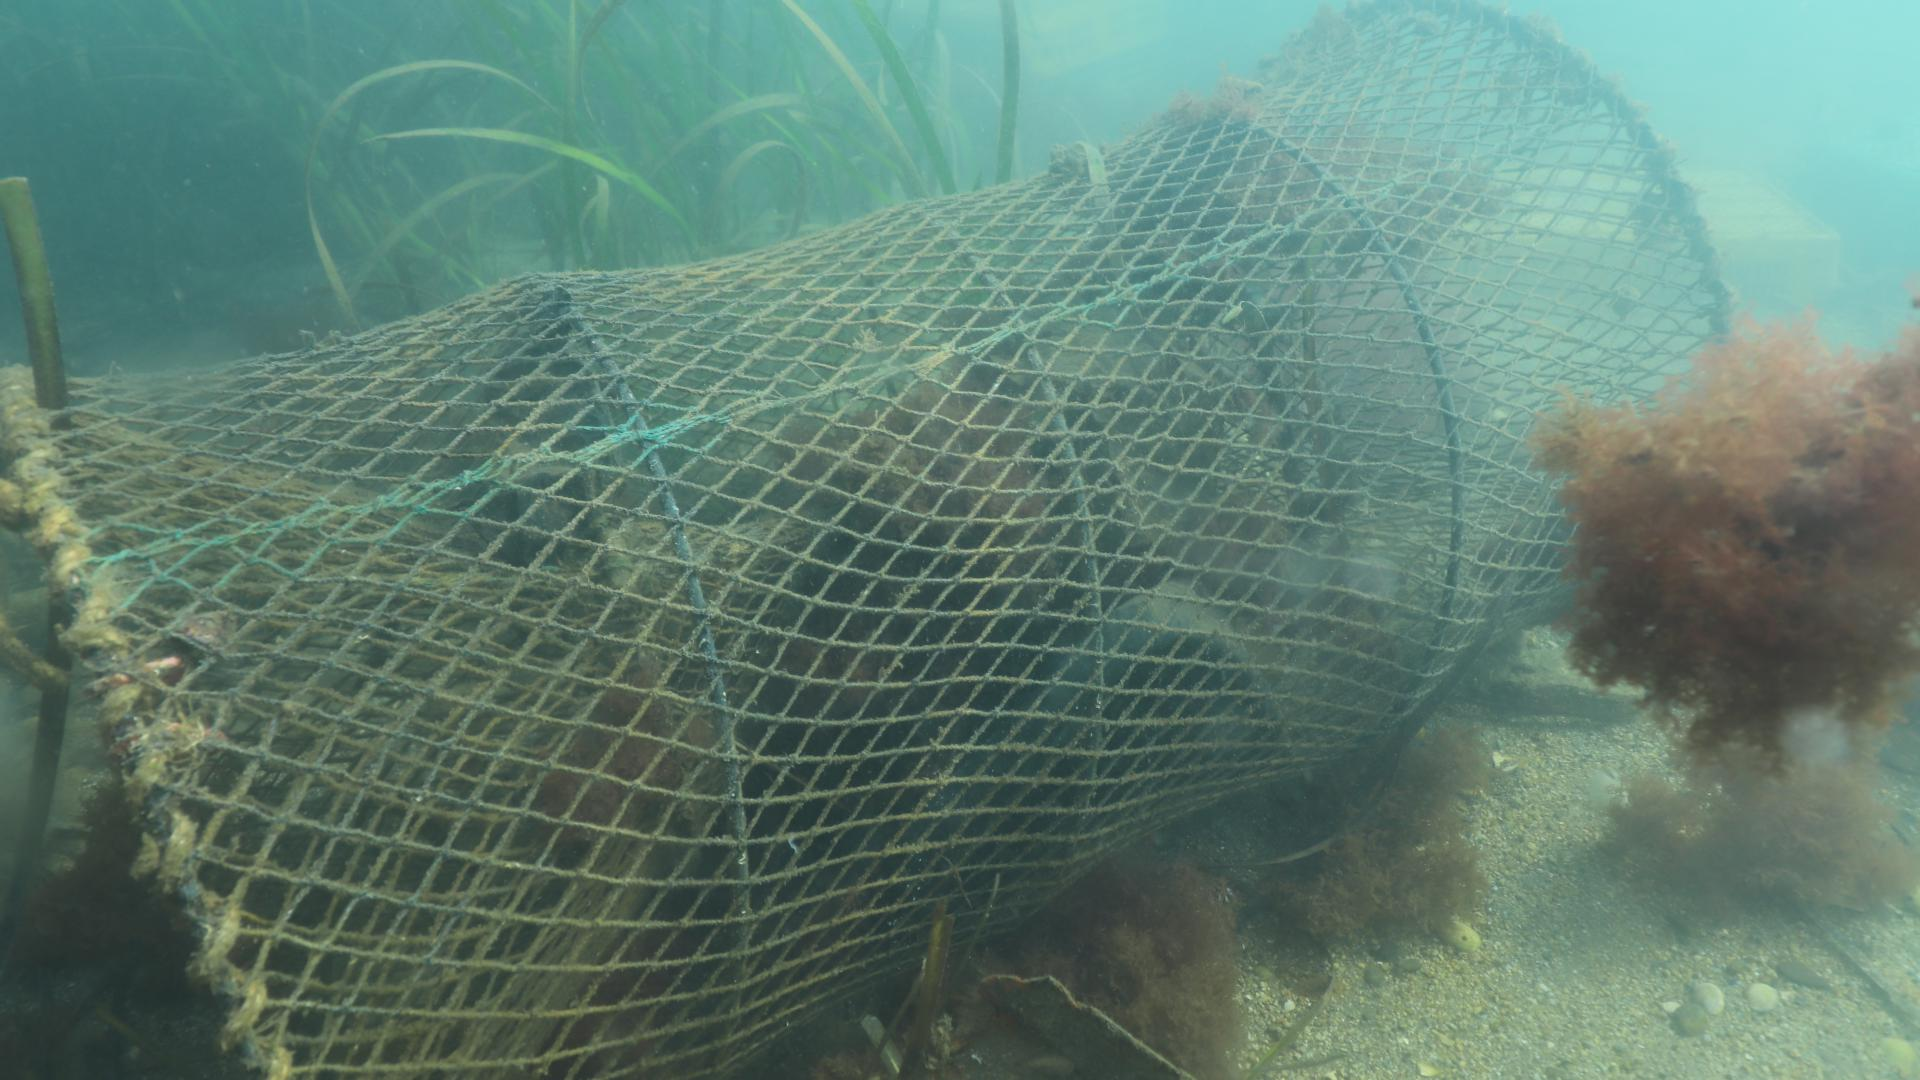spring fish trap: (0, 0, 1729, 1080)
